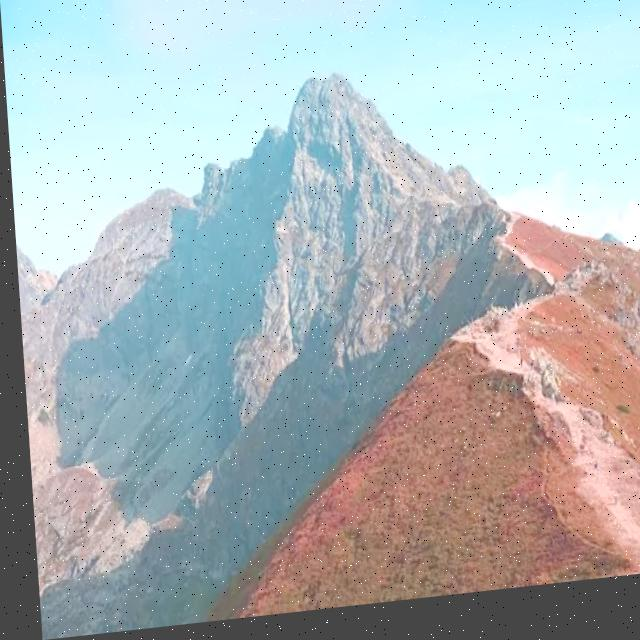Swinica: (247, 0, 405, 167)
